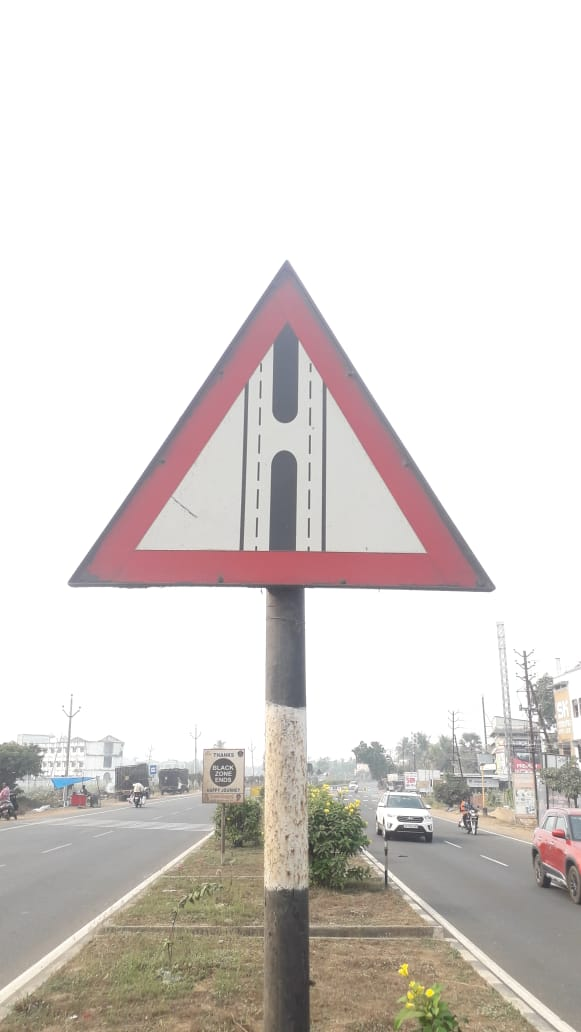highway go straight: (58, 208, 554, 643)
